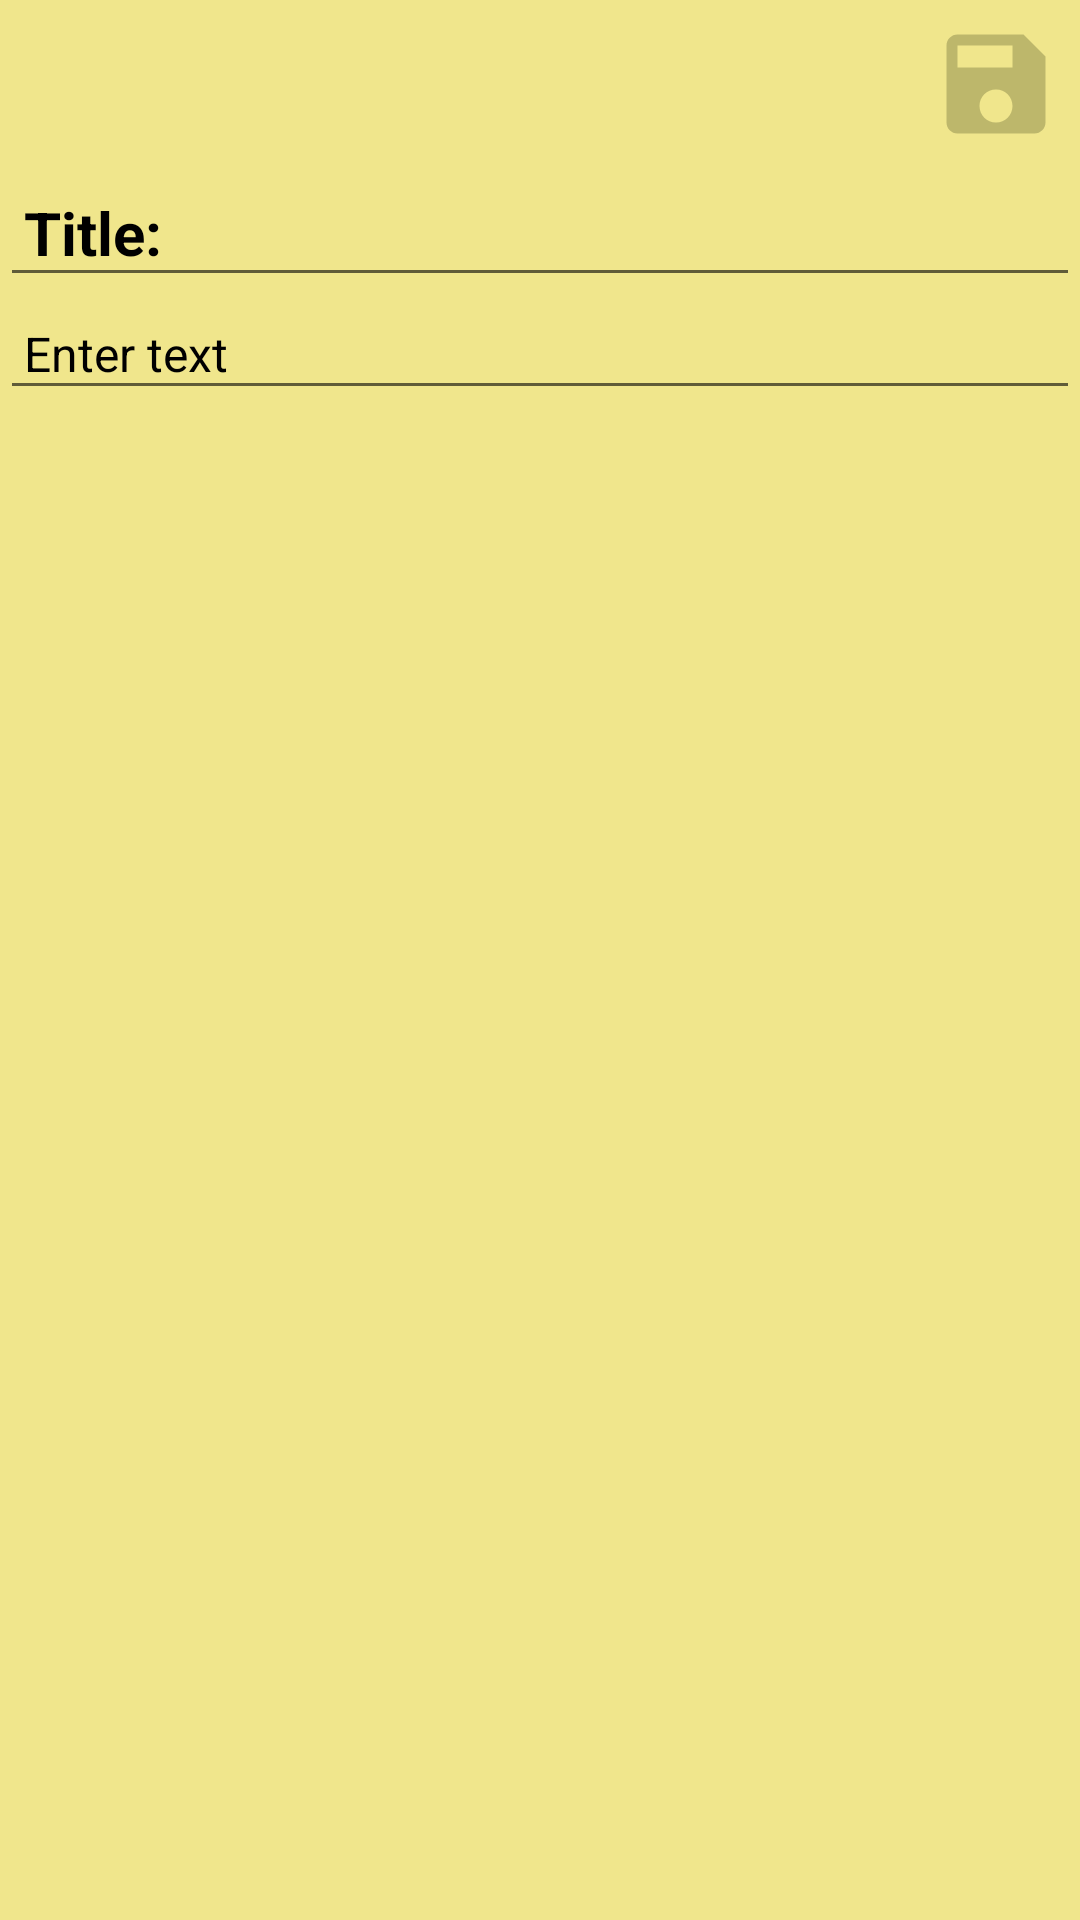

Named icons in this screenshot (1080x1920) and their centers, point (x, y):
save: point (996, 84)
